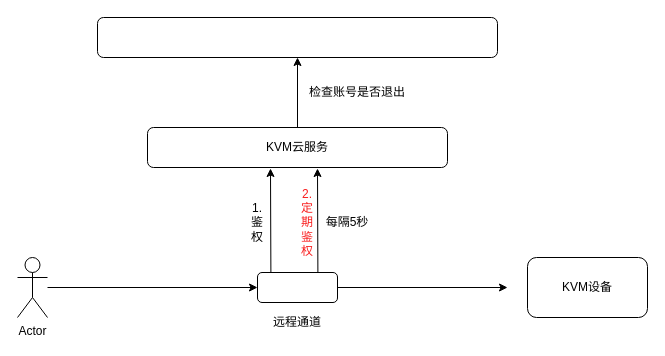
This 665x356 diagram has some shape labels left out. The centre of each missing label's shape, as x and y in pixels:
"GoodCloud云服务" goes at [297,37].
"控制器" goes at [297,287].
